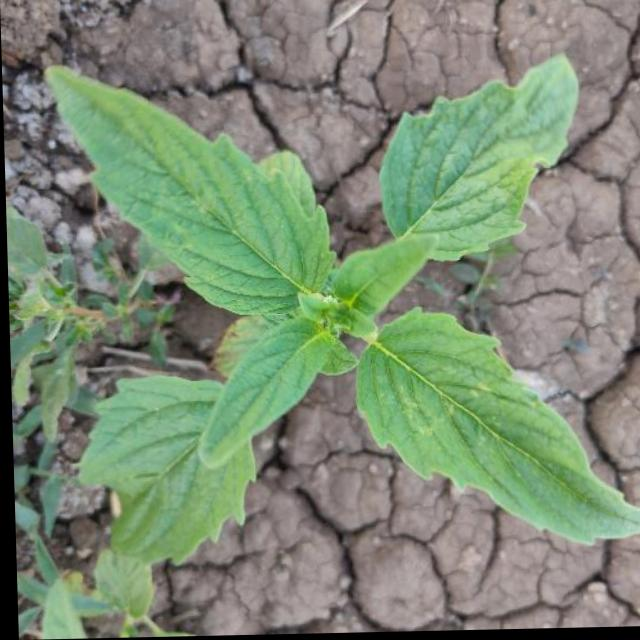crop: (32, 47, 640, 576)
